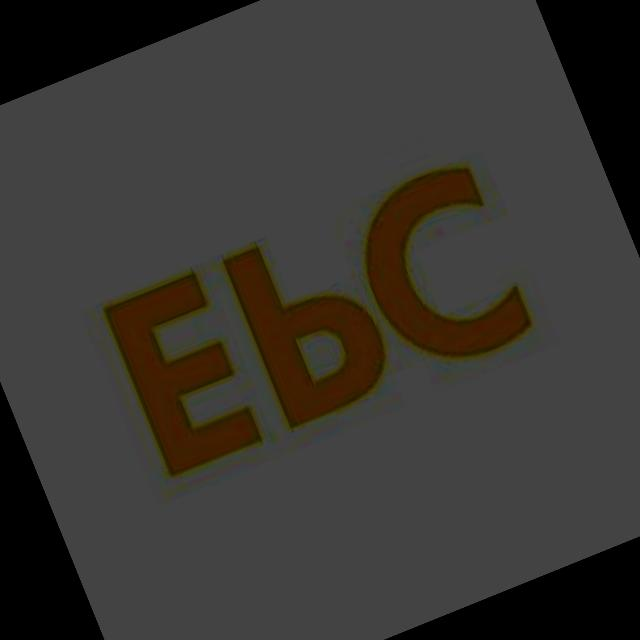kontrolka: (71, 124, 584, 512)
